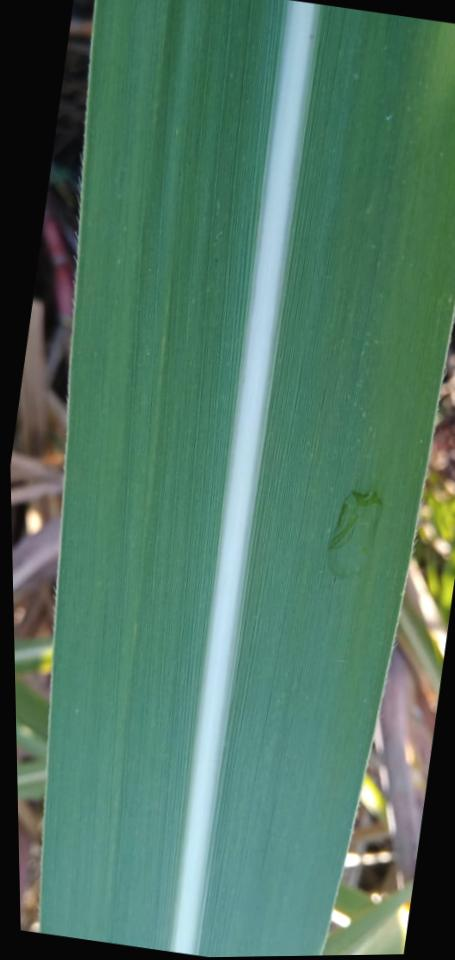Healthy: (41, 0, 455, 957)
